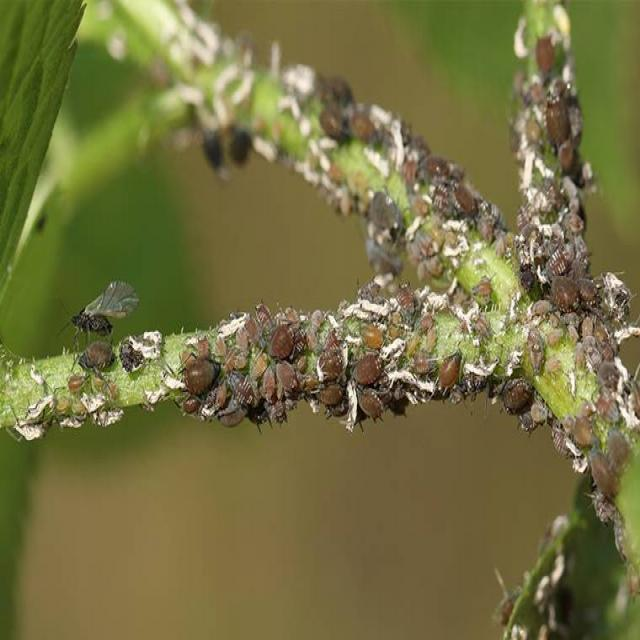Aphid-Grouped-: (312, 71, 499, 296), (166, 296, 465, 432), (505, 32, 604, 333), (497, 314, 629, 496)
Aphid-Grown-: (177, 353, 220, 395), (74, 341, 116, 383), (348, 348, 386, 390), (436, 342, 463, 400)
Aphid-Grown-have wings-: (59, 272, 145, 342)
